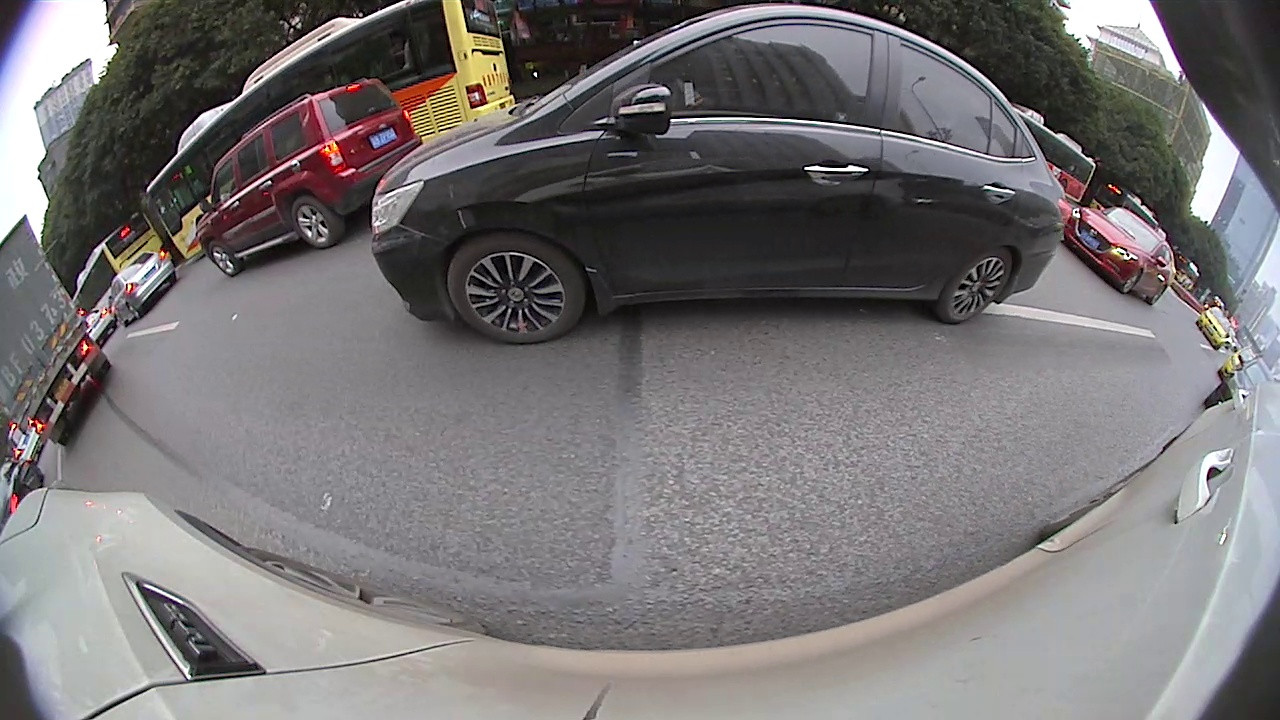bus: (140, 4, 517, 271), (67, 207, 170, 317), (1009, 103, 1097, 208), (1089, 182, 1172, 241)
car: (371, 4, 1071, 346), (193, 77, 426, 279), (1061, 204, 1179, 308), (107, 249, 178, 322), (1194, 306, 1237, 350)
front: (446, 230, 591, 342), (206, 239, 245, 278), (1117, 267, 1143, 297)
rear: (933, 245, 1013, 324), (289, 195, 345, 249), (127, 303, 142, 320)
truck: (3, 217, 110, 449)
